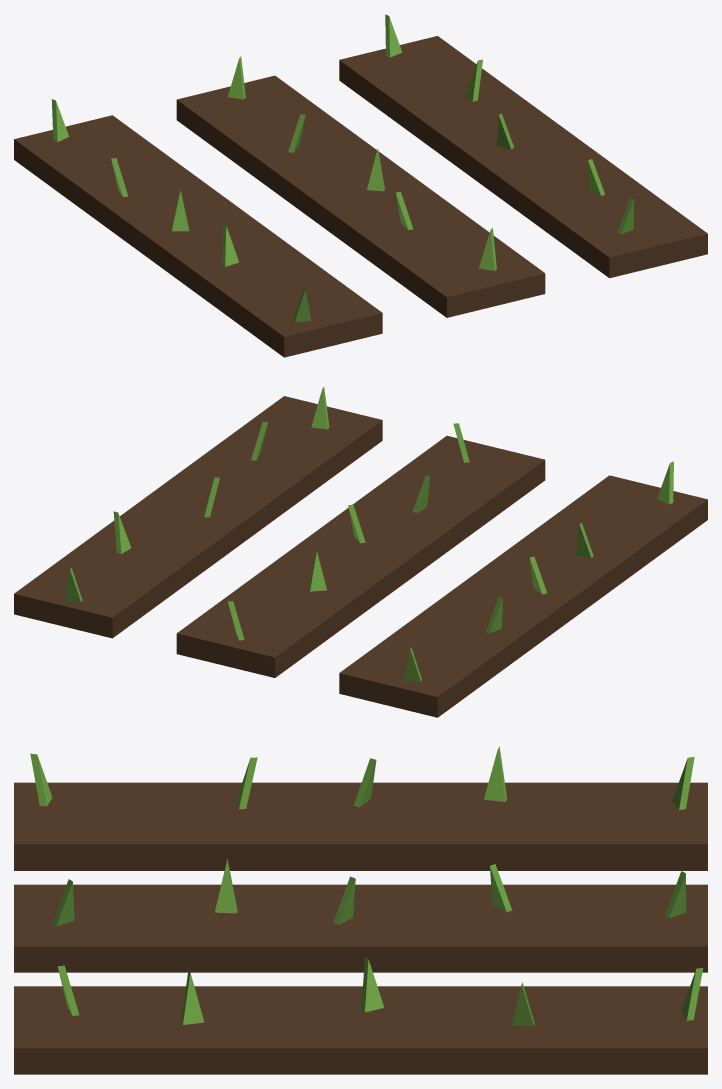
The model's file is crop_barley_1.glb.
3 renders of one model, top to bottom at view 1: azimuth 30°, elevation 25°; view 2: azimuth 150°, elevation 25°; view 3: azimuth 270°, elevation 25°, orthographic. The views are drawn at different scales.
Visible parts, largest first — view 1: crop_barley_1; view 2: crop_barley_1; view 3: crop_barley_1.
Part boxes in pixels (x1=…): crop_barley_1: x1=14, y1=14, x2=707, y2=357; crop_barley_1: x1=14, y1=387, x2=707, y2=717; crop_barley_1: x1=14, y1=746, x2=707, y2=1074.
Bounding box in the file's own units: 1.72 × 0.22 × 1.9.
